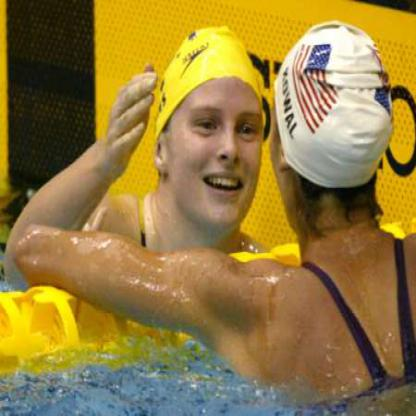face: (166, 31, 270, 228)
